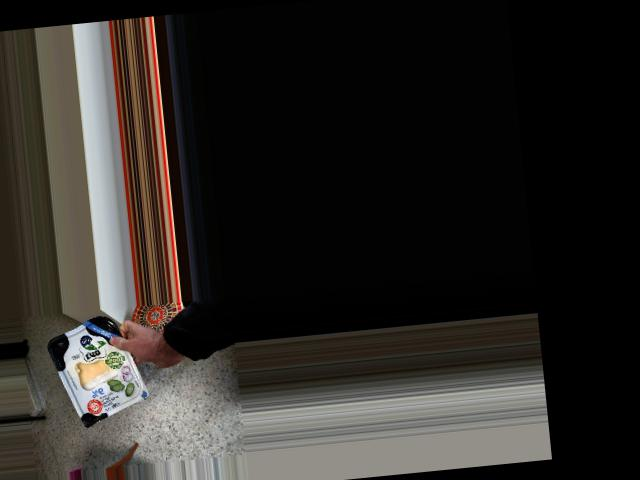cheese: (58, 324, 139, 418)
